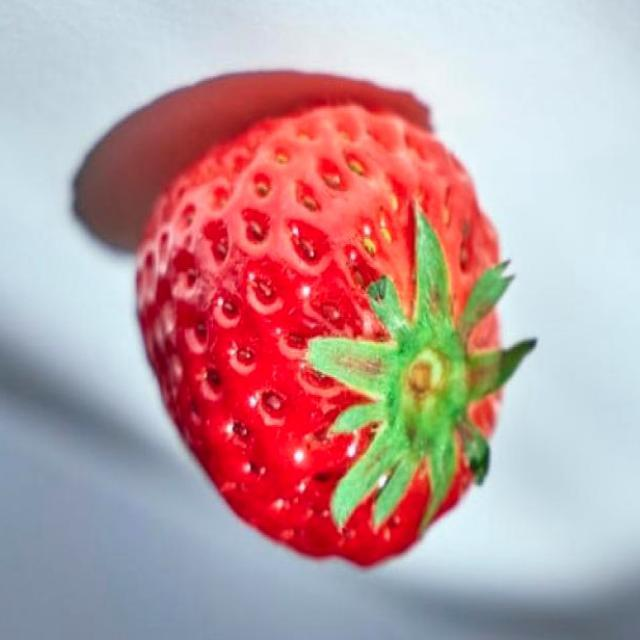Healthy Fruit: (131, 99, 535, 568)
